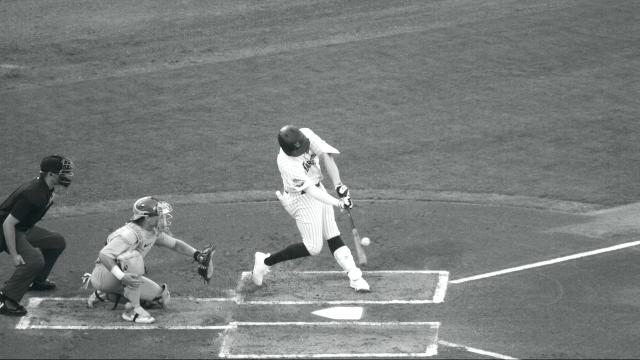ball: (361, 238, 374, 248)
bat: (347, 206, 368, 268)
